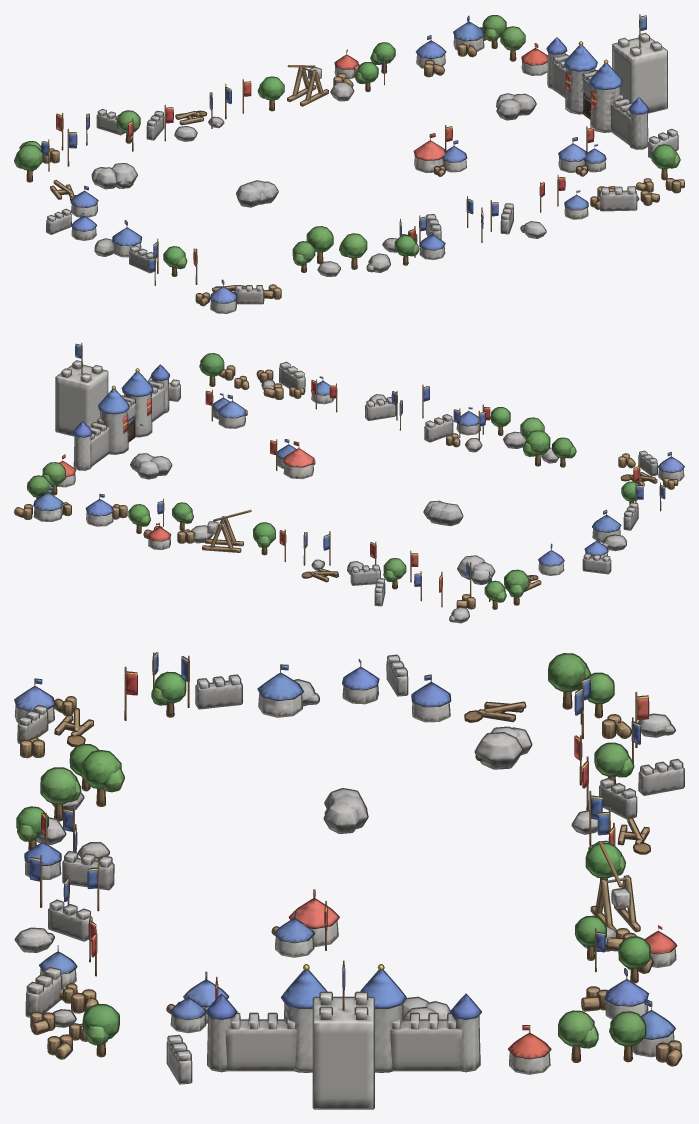
Rendered from castle_siege.glb.
3 views of the same model, one above another, from view 1: azimuth 30°, elevation 25°; view 2: azimuth 150°, elevation 25°; view 3: azimuth 270°, elevation 25° (orthographic). The views are drawn at different scales.
Visible parts, largest first — view 1: Baked_matte, Baked_matte_Outline; view 2: Baked_matte, Baked_matte_Outline; view 3: Baked_matte, Baked_matte_Outline.
Boxes of the visible parts, x1,y1,x2,y2 form: Baked_matte: [14, 14, 684, 312]; Baked_matte_Outline: [14, 15, 684, 313]; Baked_matte: [15, 342, 683, 622]; Baked_matte_Outline: [14, 343, 684, 623]; Baked_matte: [15, 652, 683, 1108]; Baked_matte_Outline: [14, 652, 684, 1109].
Size of the model in its own units: 40.99 by 6.45 by 26.9.
